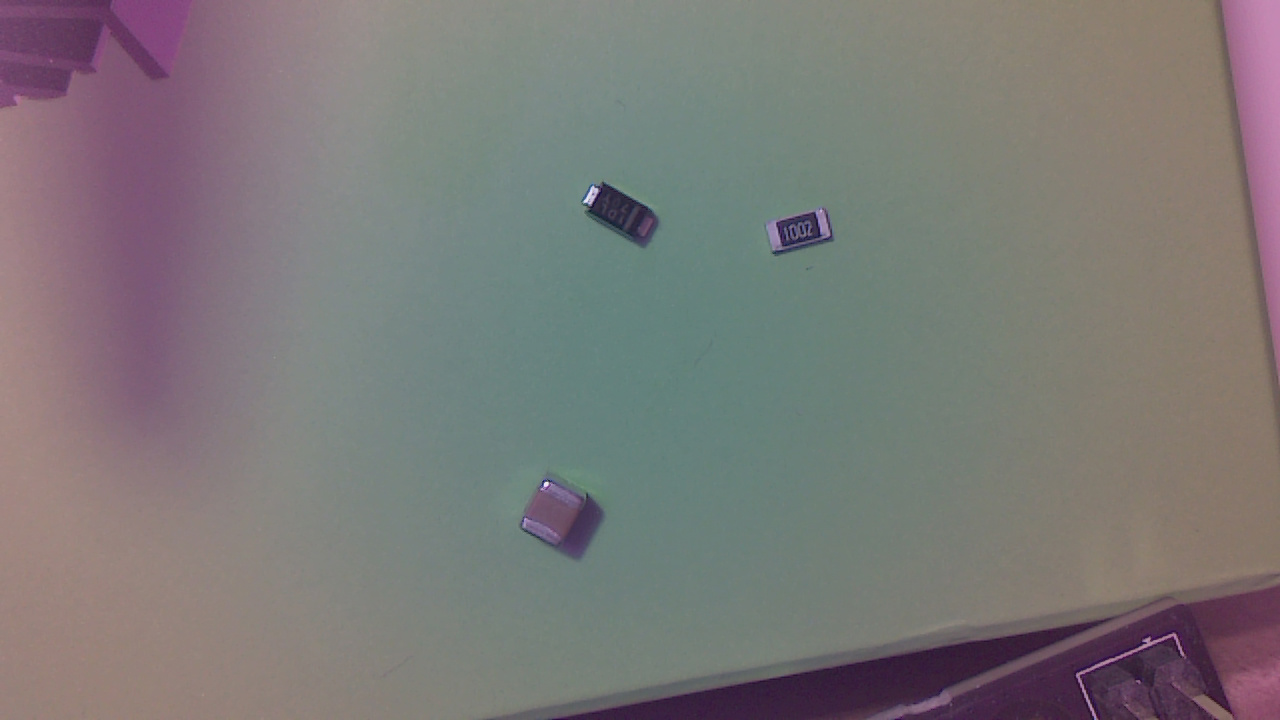Condensator: (524, 476, 598, 552)
Diode: (585, 184, 666, 251)
Resistor: (771, 211, 838, 263)
